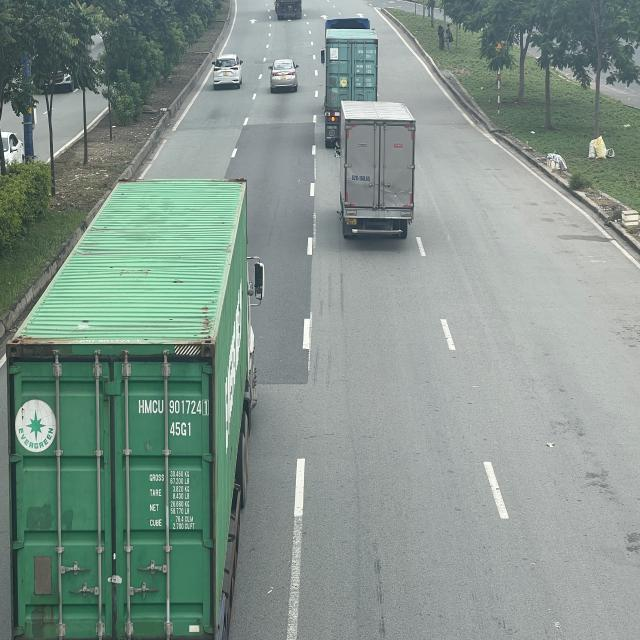car: (269, 60, 300, 94), (211, 53, 242, 87)
container: (6, 178, 265, 640), (322, 17, 379, 146)
truck: (339, 101, 417, 246)
